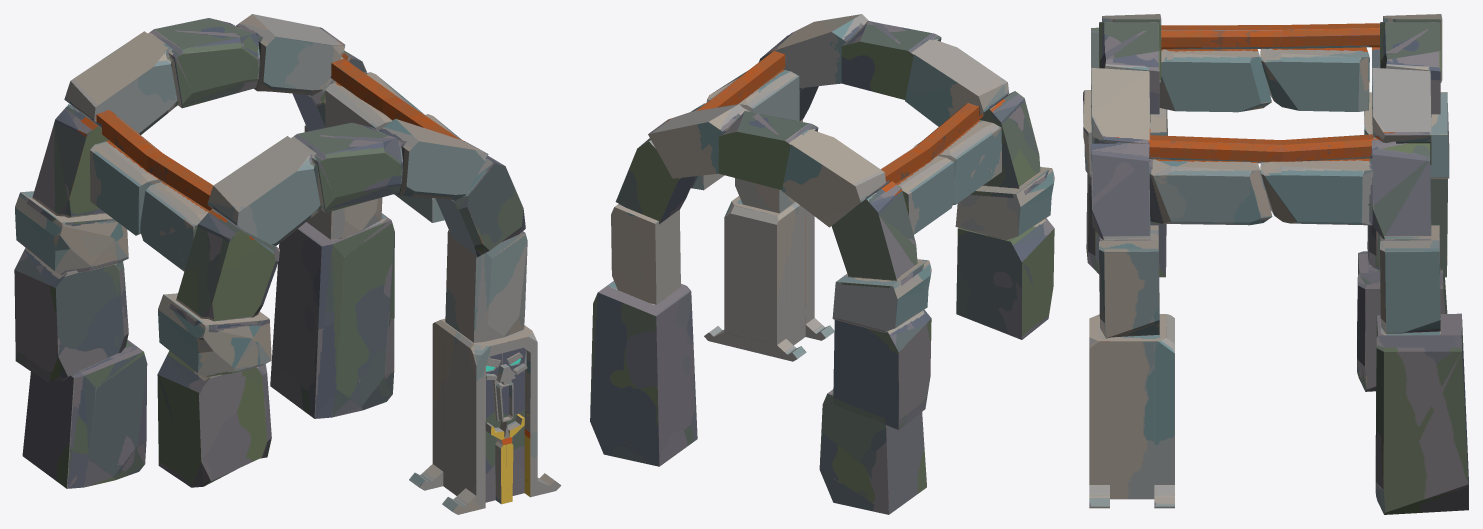
Rendered from rodkdoor.fbx.
The picture shows the model from 3 angles, left to right: view 1: azimuth 30°, elevation 25°; view 2: azimuth 150°, elevation 25°; view 3: azimuth 270°, elevation 25°; orthographic projection. The views are drawn at different scales.
Visible parts, largest first — view 1: 騎樓樓下_UV; view 2: 騎樓樓下_UV; view 3: 騎樓樓下_UV.
Boxes of the visible parts, left/top/right/bottom form: 騎樓樓下_UV: left=14, top=14, right=561, bottom=514; 騎樓樓下_UV: left=590, top=14, right=1054, bottom=514; 騎樓樓下_UV: left=1083, top=14, right=1468, bottom=514.
Bounding box in the file's own units: 799 × 841 × 744.
1 material, 1 textured.
